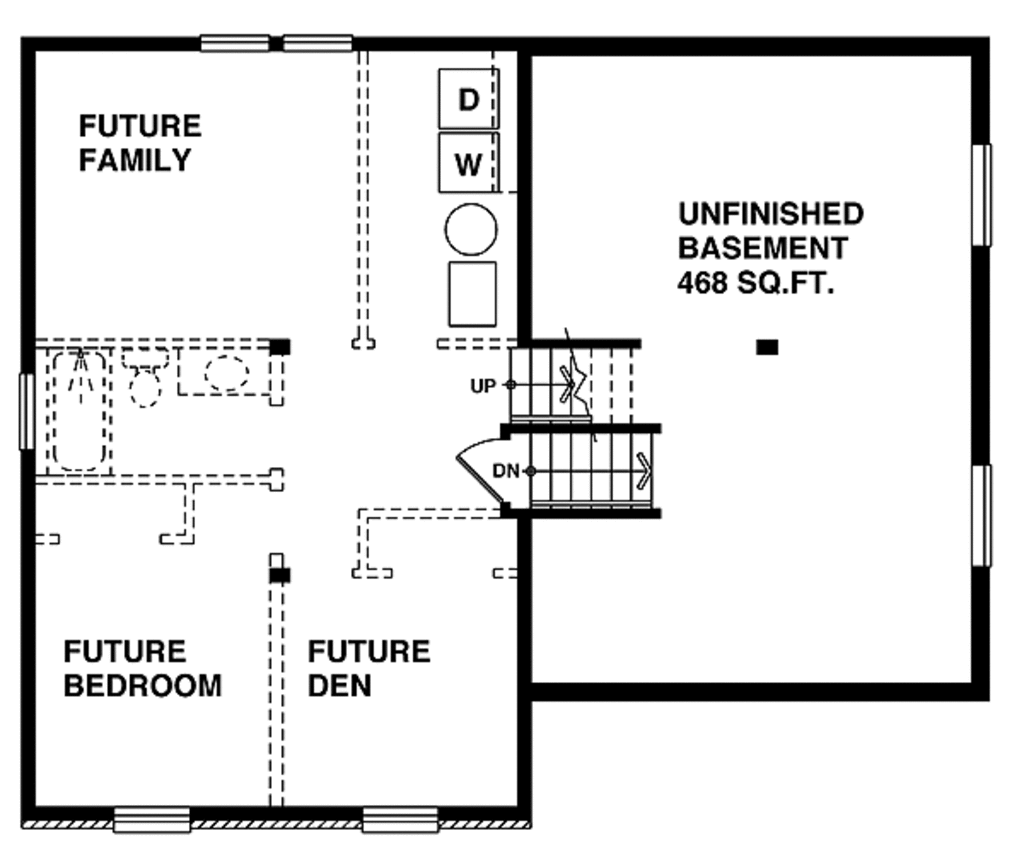door: (450, 437, 524, 514)
large_sink: (111, 339, 175, 418)
small_sink: (176, 340, 279, 396)
stairs: (516, 336, 702, 519)
tub: (36, 344, 120, 474)
window: (281, 24, 362, 63), (963, 467, 994, 568), (359, 802, 444, 836), (198, 27, 277, 63), (110, 806, 196, 833), (972, 145, 994, 246), (19, 372, 40, 461)
